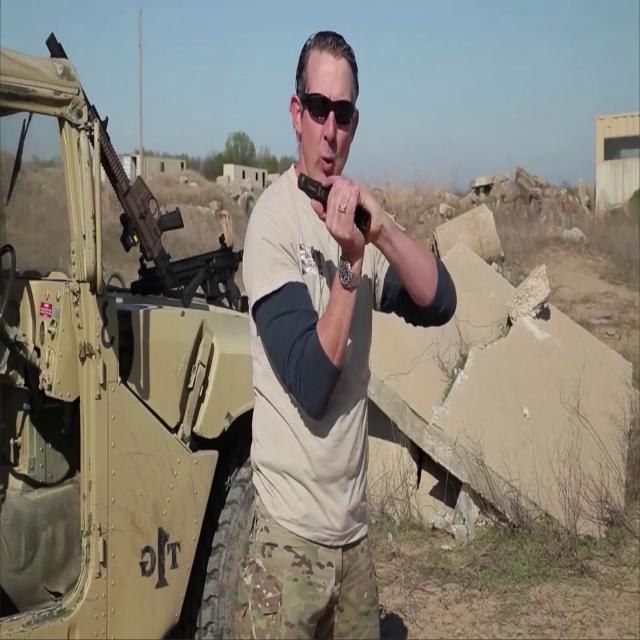Gun: (297, 170, 371, 236)
